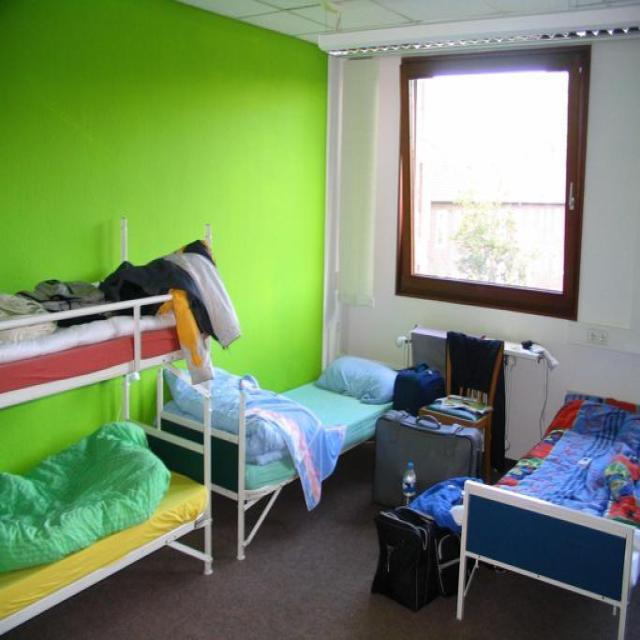bed: (453, 390, 639, 639)
chair: (415, 329, 504, 485)
pillows: (314, 354, 398, 404)
plants: (450, 195, 534, 285)
window: (394, 42, 590, 320)
